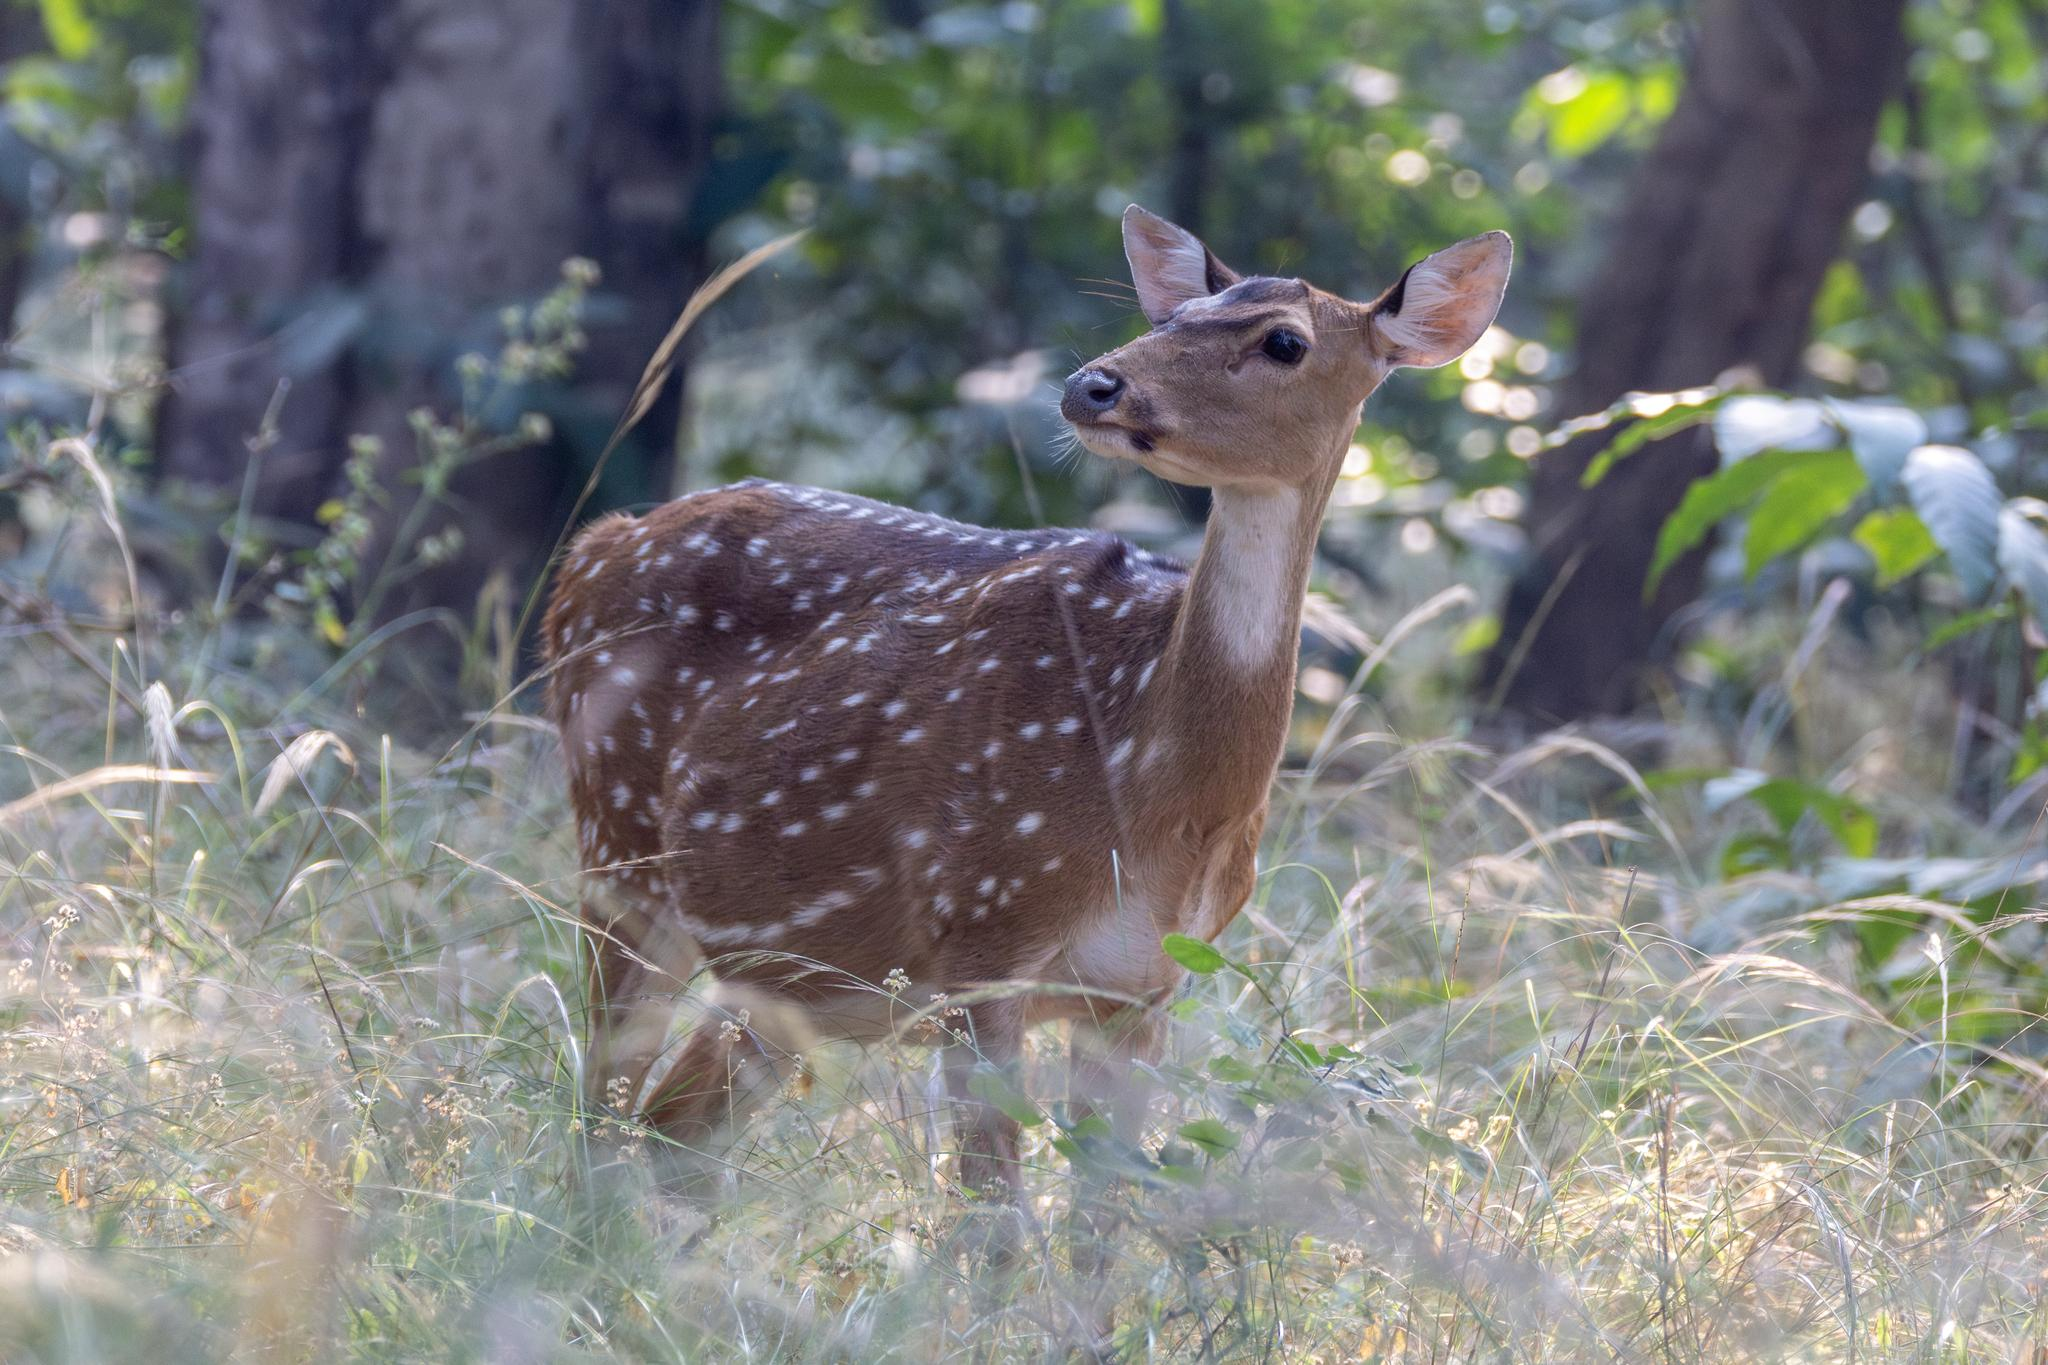Deer: (542, 209, 1514, 1141)
